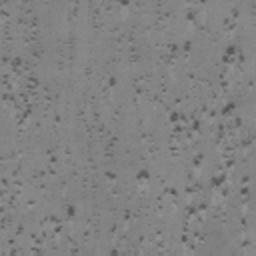Oxide scale of temperature system: (104, 101, 256, 240), (108, 7, 239, 87), (0, 163, 76, 256), (2, 34, 76, 125)
